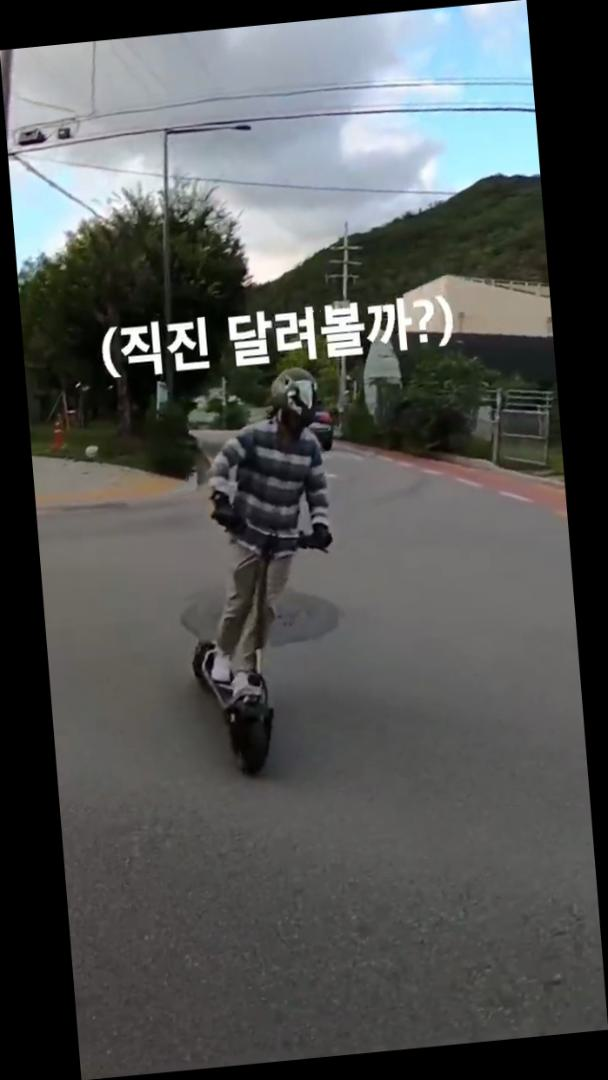helmet: (166, 361, 357, 784)
